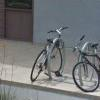Bicycle: (25, 16, 100, 100)
